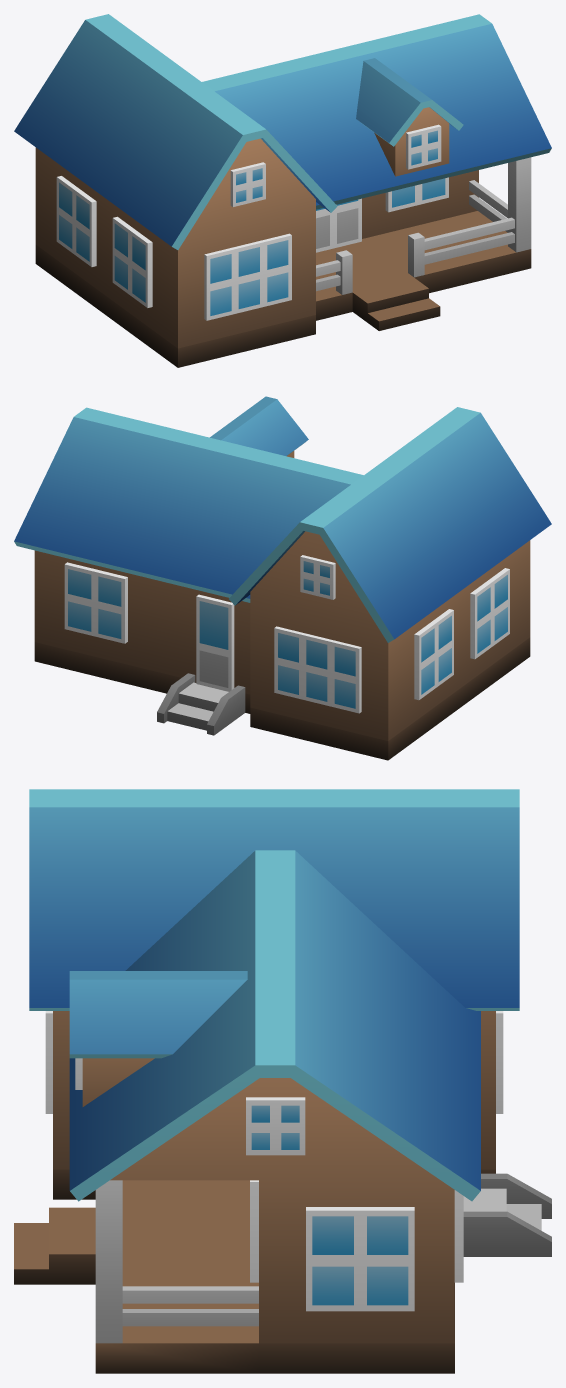
Rendered from cute house.fbx.
The picture shows the model from 3 angles, top to bottom: view 1: azimuth 30°, elevation 25°; view 2: azimuth 150°, elevation 25°; view 3: azimuth 270°, elevation 25°; orthographic projection. The views are drawn at different scales.
Visible parts, largest first — view 1: cute_house; view 2: cute_house; view 3: cute_house.
Part boxes in pixels (<box>): cute_house: <box>14,14,551,367</box>; cute_house: <box>14,396,551,760</box>; cute_house: <box>14,789,551,1373</box>.
Bounding box in the file's own units: 979 × 534 × 745.
Materials: 1 (1 with a texture image).
